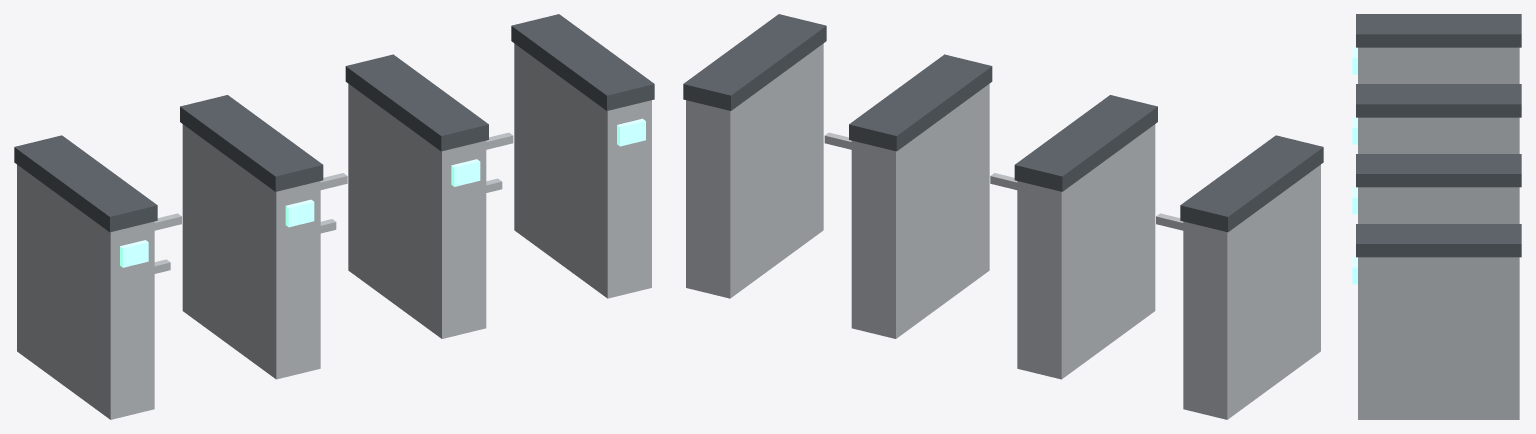
Rendered from nyc_subway_turnstile.glb.
The picture shows the model from 3 angles, left to right: view 1: azimuth 30°, elevation 25°; view 2: azimuth 150°, elevation 25°; view 3: azimuth 270°, elevation 25°; orthographic projection. The views are drawn at different scales.
Visible parts, largest first — view 1: nyc_subway_turnstile.glb; view 2: nyc_subway_turnstile.glb; view 3: nyc_subway_turnstile.glb.
Boxes of the visible parts, x1=… form: nyc_subway_turnstile.glb: x1=14, y1=14, x2=654, y2=419; nyc_subway_turnstile.glb: x1=683, y1=14, x2=1323, y2=419; nyc_subway_turnstile.glb: x1=1352, y1=14, x2=1521, y2=419.
Size of the model in its own units: 2.96 by 1.06 by 0.92.
